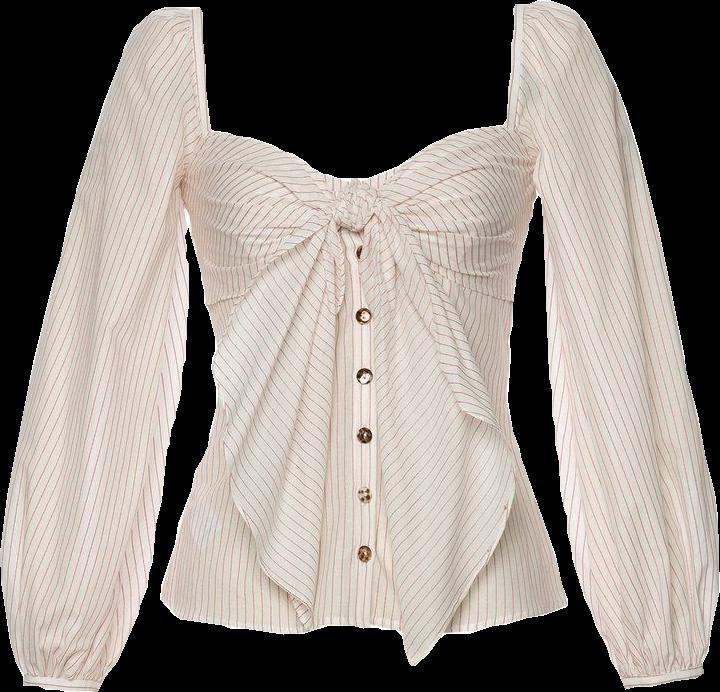Bodice: (160, 122, 567, 636)
Neckline: (206, 125, 508, 185)
Sleeve: (504, 1, 718, 688), (0, 7, 209, 691)
Sleeveline: (193, 6, 211, 132), (502, 4, 519, 126)
Waistline: (157, 590, 570, 635)
